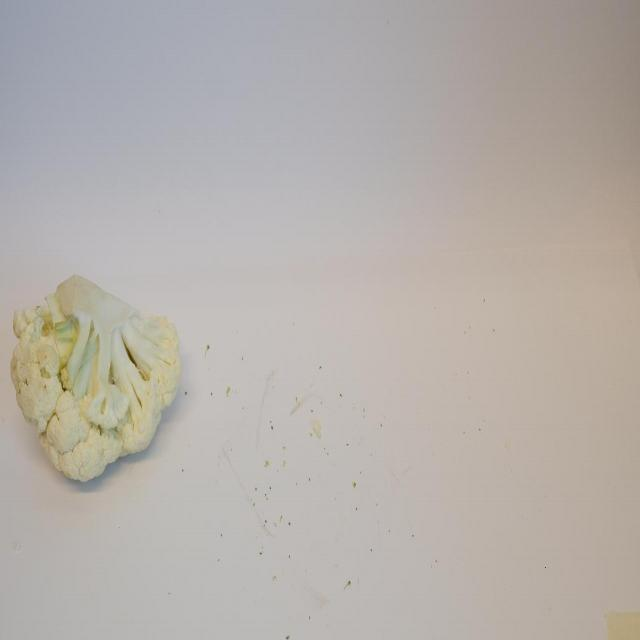cauliflower: (9, 273, 190, 474)
